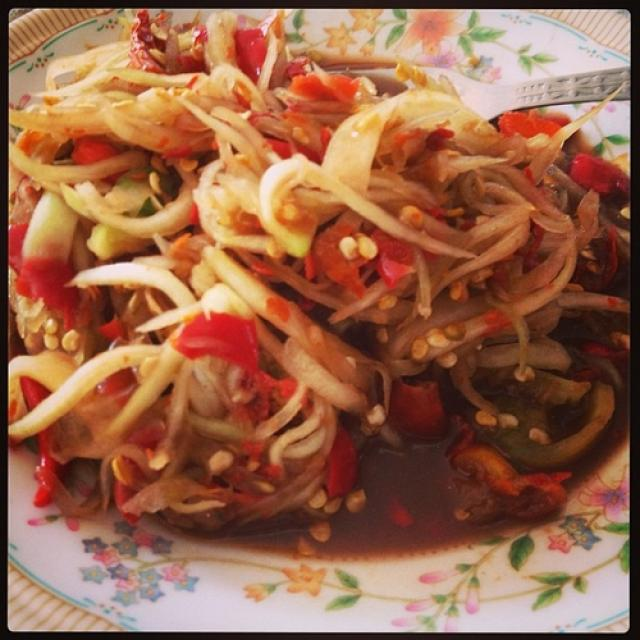蔬菜料理: (16, 13, 620, 623)
